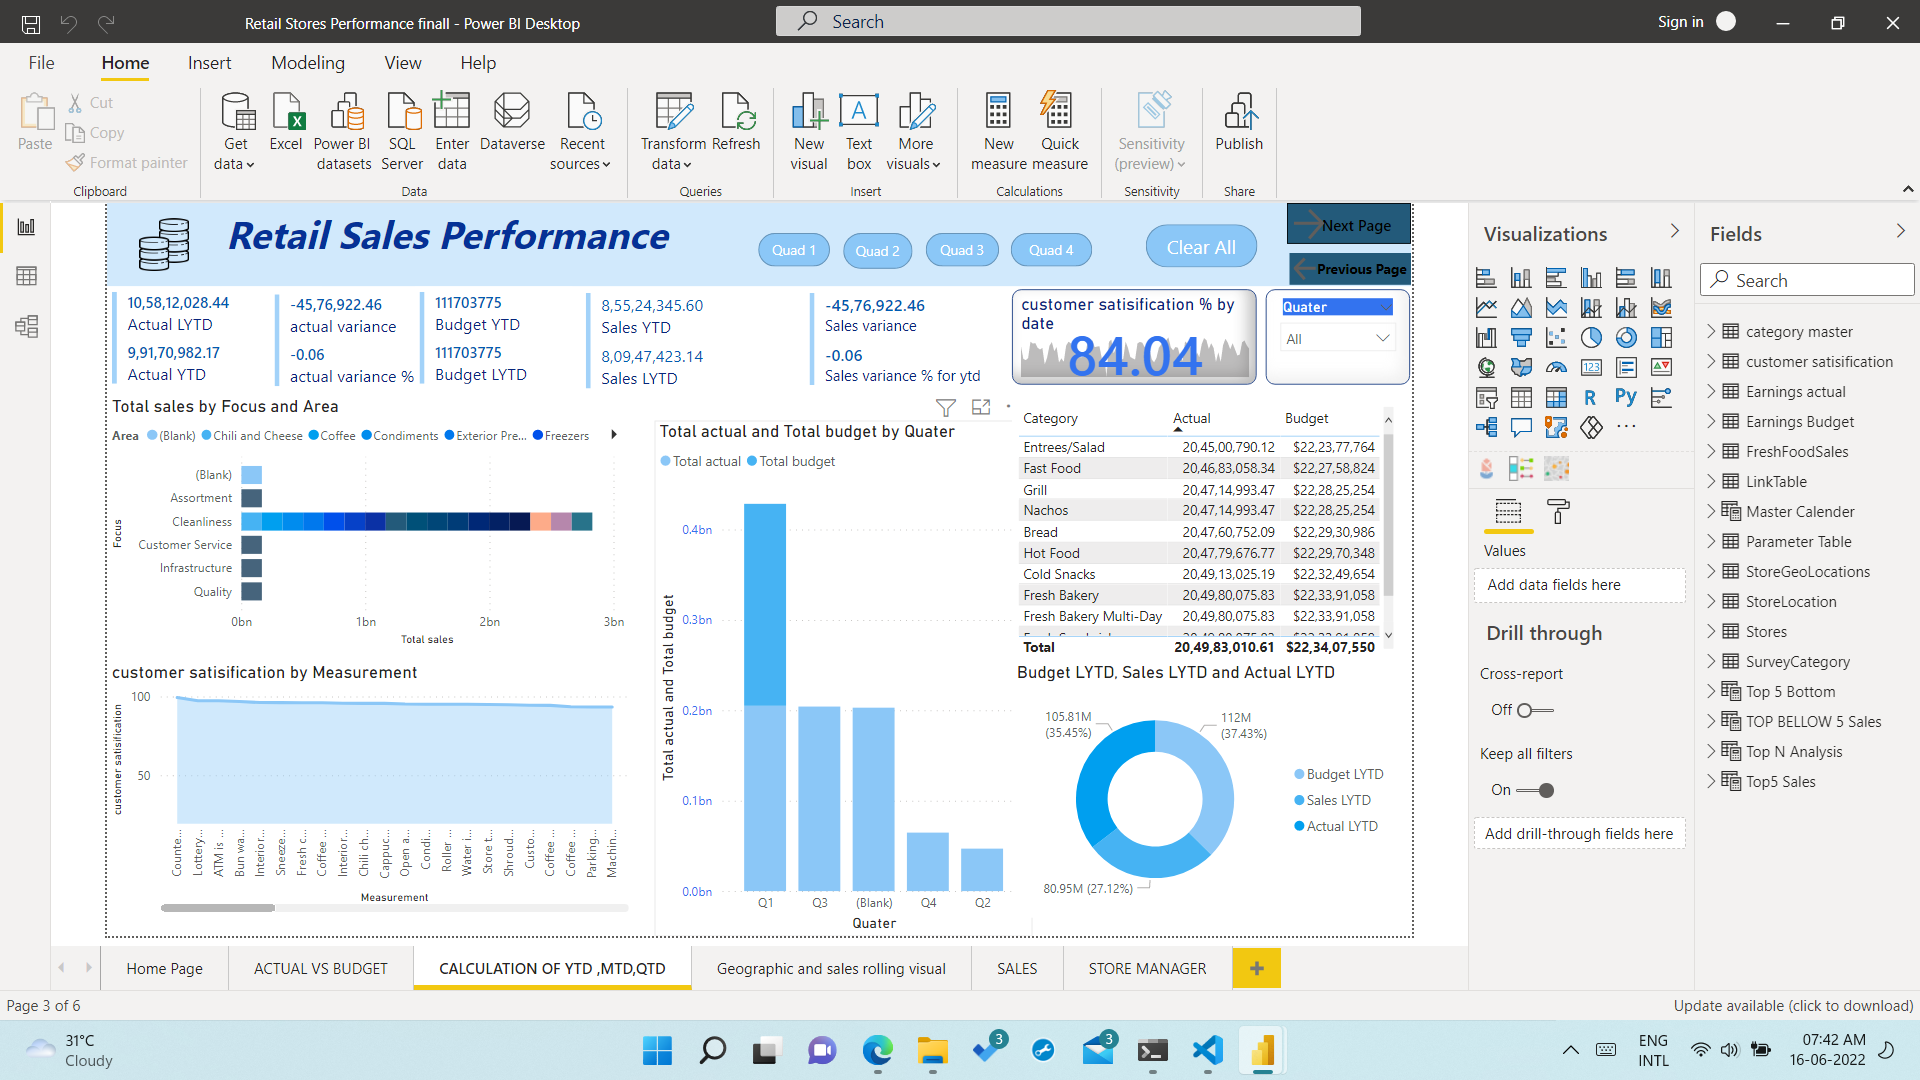

The dashboard page shown, as its layout file describes it:
{"tool":"powerbi","page":{"name":"CALCULATION OF YTD ,MTD,QTD","canvas":[1280,720],"ordinal":2},"visuals":[{"type":"image","box":[0,0,111.7,82],"z":0},{"type":"textbox","box":[111.7,0,1167.9,82],"z":1000},{"type":"multiRowCard","fields":{"Values":["Earnings actual.Actual LYTD","Earnings actual.Actual YTD"]},"box":[0,82,211.5,111.7],"z":2000},{"type":"multiRowCard","fields":{"Values":["Earnings actual.actual variance","Earnings actual.actual variance %"]},"box":[159.5,85.2,181.2,124.4],"z":3000},{"type":"multiRowCard","fields":{"Values":["FreshFoodSales.Sales YTD","FreshFoodSales.Sales LYTD"]},"box":[464.4,82.8,211.2,105.6],"z":4000},{"type":"multiRowCard","fields":{"Values":["FreshFoodSales.Sales variance","FreshFoodSales.Sales variance % for ytd"]},"box":[684.4,83.2,211.5,111.7],"z":5000},{"type":"multiRowCard","fields":{"Values":["Earnings Budget.Budget YTD","Earnings Budget.Budget LYTD"]},"box":[301.2,81.6,154.8,106.8],"z":6000},{"type":"barChart","fields":{"Category":["SurveyCategory.Focus"],"Y":["FreshFoodSales.total sales"],"Series":["SurveyCategory.Area"]},"box":[0,188.9,516.8,250.7],"z":7000},{"type":"stackedAreaChart","fields":{"Category":["SurveyCategory.Measurement"],"Y":["customer satisification.customer satisification"]},"box":[0,450,517,251],"z":8000},{"type":"columnChart","fields":{"Category":["Master Calender.Quater"],"Y":["Earnings actual.Total actual","Earnings Budget.Total budget"]},"box":[537.6,213.6,369.6,506.4],"z":9000},{"type":"tableEx","fields":{"Values":["category master.Category","Sum(Earnings actual.Actual)","Sum(Earnings Budget.Budget)"]},"box":[887.5,194.9,379,255.4],"z":10000},{"type":"donutChart","fields":{"Y":["Earnings Budget.Budget LYTD","FreshFoodSales.Sales LYTD","Earnings actual.Actual LYTD"]},"box":[888,450,379,251],"z":11000},{"type":"slicer","fields":{"Values":["Master Calender.Quater"]},"box":[1137.6,85.2,141.6,93.6],"z":12000},{"type":"kpi","title":"customer satisification % by date","fields":{"Indicator":["customer satisification.customer satisification"],"TrendLine":["customer satisification.date"]},"box":[888,85.2,240,93.6],"z":13000},{"type":"actionButton","box":[1160.4,49.2,118.8,31.2],"z":14000},{"type":"actionButton","box":[1158,0,121.2,39.6],"z":15000},{"type":"shape","box":[1018.8,20.4,109.2,42],"z":16000},{"type":"shape","box":[639.5,29.7,70.3,32.5],"z":17000},{"type":"shape","box":[722,29.7,67.6,35.2],"z":18000},{"type":"shape","box":[803.2,29.7,71.7,32.5],"z":19000},{"type":"shape","box":[887,29.7,79.8,32.5],"z":20000}]}

Visuals, with their boxes on the page's 1280x720 design canvas (x1, y1, x2, y2). These are canvas units, not pixel positions in the 1920x1080 screenshot, which may show the page scaled, cropped or inside an application window:
image: bbox=(0, 0, 112, 82)
textbox: bbox=(112, 0, 1280, 82)
multiRowCard - Earnings actual.Actual LYTD x Earnings actual.Actual YTD: bbox=(0, 82, 212, 194)
multiRowCard - Earnings actual.actual variance x Earnings actual.actual variance %: bbox=(160, 85, 341, 210)
multiRowCard - FreshFoodSales.Sales YTD x FreshFoodSales.Sales LYTD: bbox=(464, 83, 676, 188)
multiRowCard - FreshFoodSales.Sales variance x FreshFoodSales.Sales variance % for ytd: bbox=(684, 83, 896, 195)
multiRowCard - Earnings Budget.Budget YTD x Earnings Budget.Budget LYTD: bbox=(301, 82, 456, 188)
barChart - SurveyCategory.Focus x FreshFoodSales.total sales: bbox=(0, 189, 517, 440)
stackedAreaChart - SurveyCategory.Measurement x customer satisification.customer satisification: bbox=(0, 450, 517, 701)
columnChart - Master Calender.Quater x Earnings actual.Total actual: bbox=(538, 214, 907, 720)
tableEx - category master.Category x Sum(Earnings actual.Actual): bbox=(888, 195, 1266, 450)
donutChart - Earnings Budget.Budget LYTD x FreshFoodSales.Sales LYTD: bbox=(888, 450, 1267, 701)
slicer - Master Calender.Quater: bbox=(1138, 85, 1279, 179)
"customer satisification % by date" kpi: bbox=(888, 85, 1128, 179)
actionButton: bbox=(1160, 49, 1279, 80)
actionButton: bbox=(1158, 0, 1279, 40)
shape: bbox=(1019, 20, 1128, 62)
shape: bbox=(640, 30, 710, 62)
shape: bbox=(722, 30, 790, 65)
shape: bbox=(803, 30, 875, 62)
shape: bbox=(887, 30, 967, 62)
